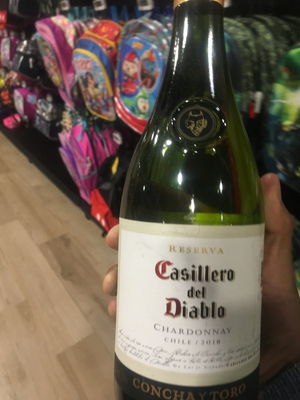casillero del diablo chardonnay: (119, 16, 279, 400)
